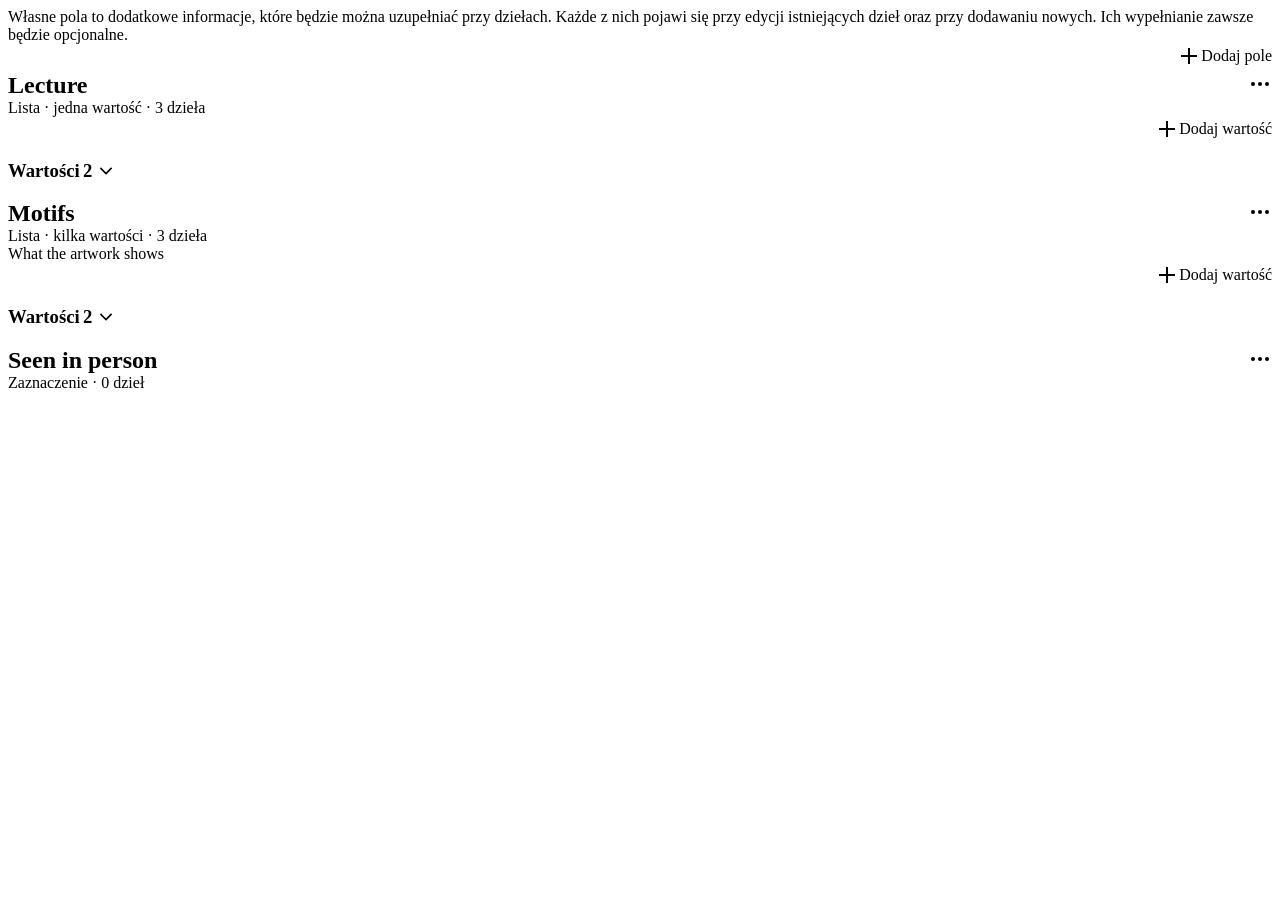
Test: OwnFieldsTab › asks whether a list takes several values only for a list
Click the button "Dodaj pole".
click(1225, 56)  # box [1177,44,1272,68]
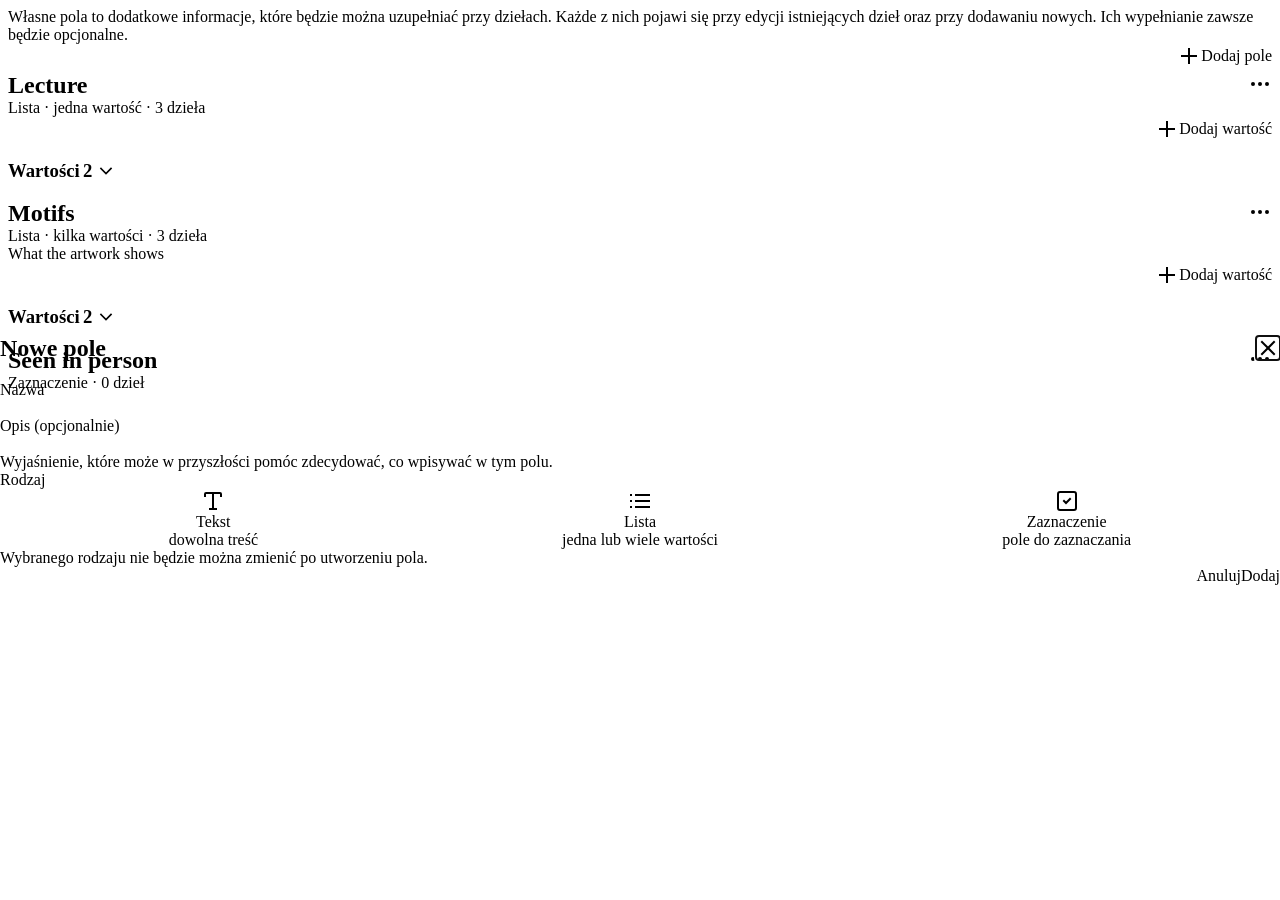
Click the radio button labelled "Lista jedna lub wiele wartości".
click(640, 519)  # box [562,489,718,548]
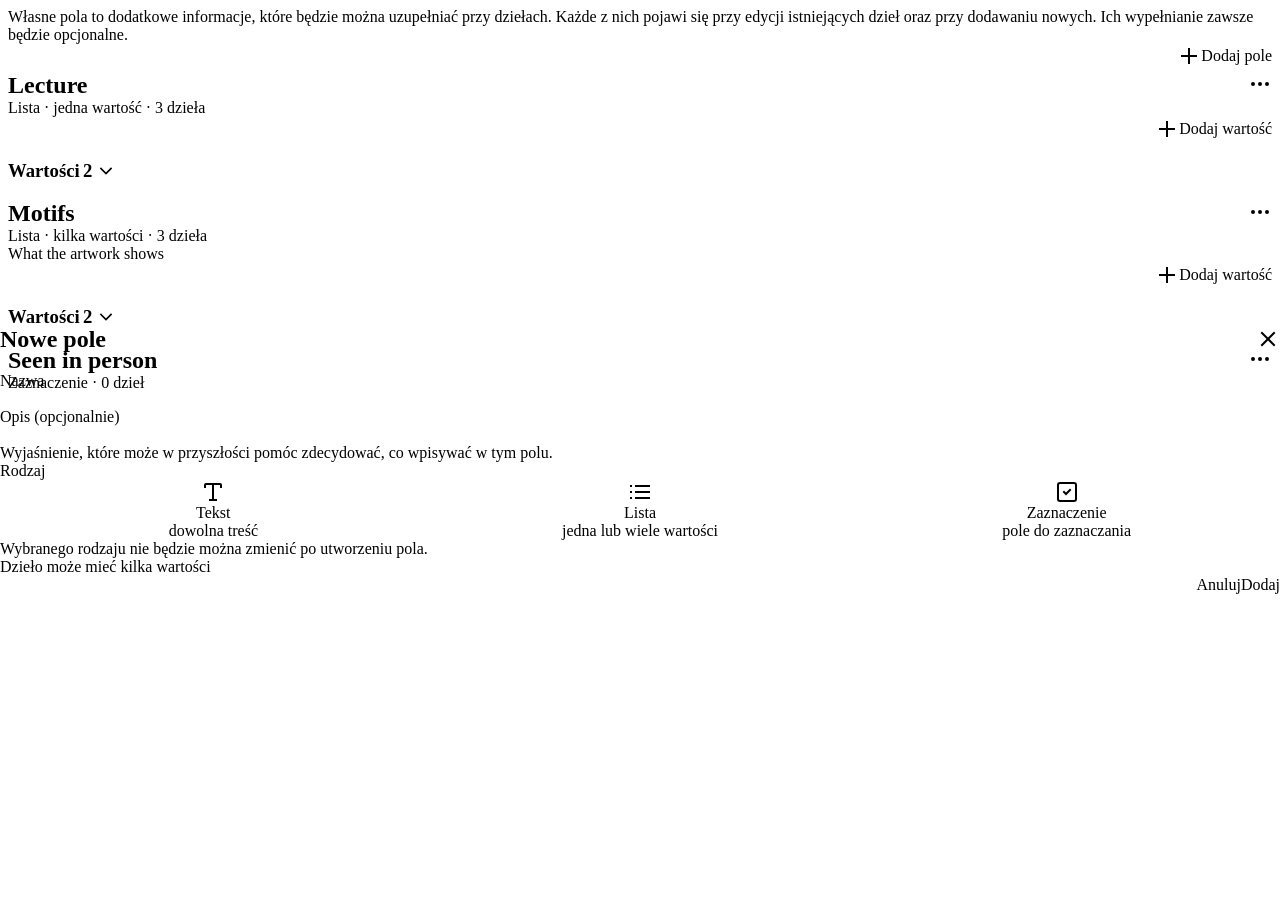
expect the checkbox labelled "Dzieło może mieć kilka wartości" is shown: met, box [0,558,211,575]
